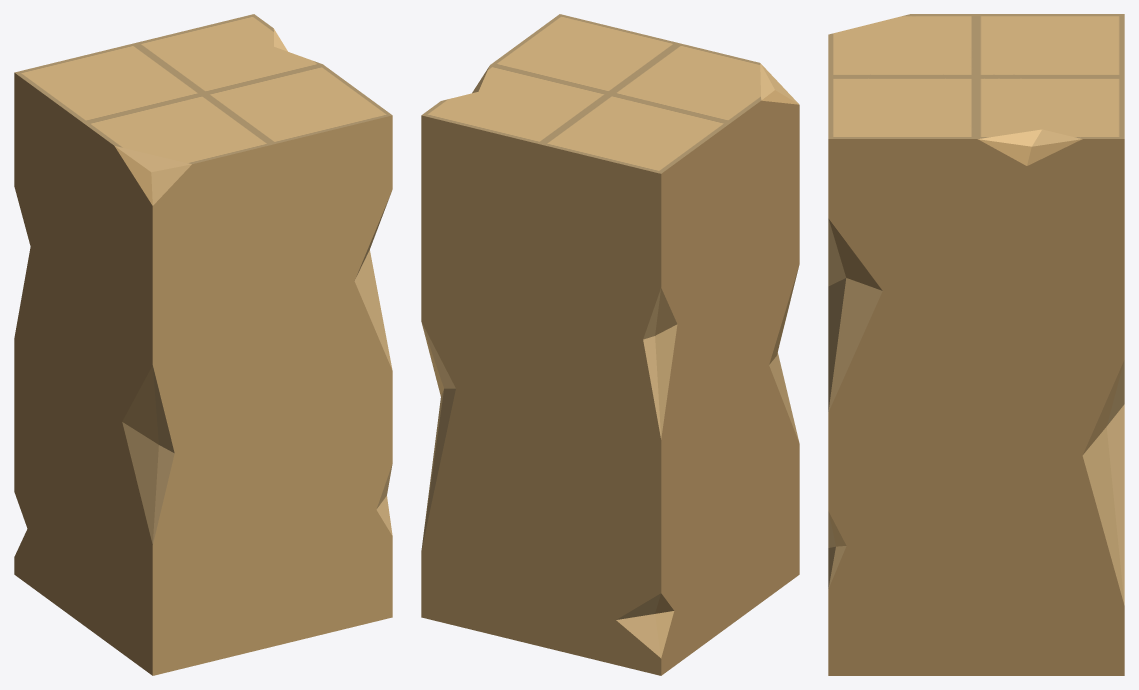
The model's file is ST_Env_Block_016.fbx.
3 renders of one model, left to right at view 1: azimuth 30°, elevation 25°; view 2: azimuth 150°, elevation 25°; view 3: azimuth 270°, elevation 25°, orthographic. The views are drawn at different scales.
Parts seen in each view (by area): view 1: ST_Env_Block_016; view 2: ST_Env_Block_016; view 3: ST_Env_Block_016.
Boxes of the visible parts, box(x1,y1,x2,y2) form: ST_Env_Block_016: box(14, 14, 392, 675); ST_Env_Block_016: box(421, 14, 799, 675); ST_Env_Block_016: box(828, 14, 1124, 675).
Size of the model in its own units: 5 by 10 by 5.
